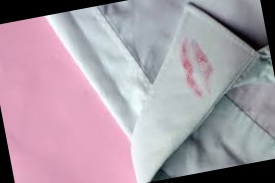lipstick: (173, 35, 214, 101)
